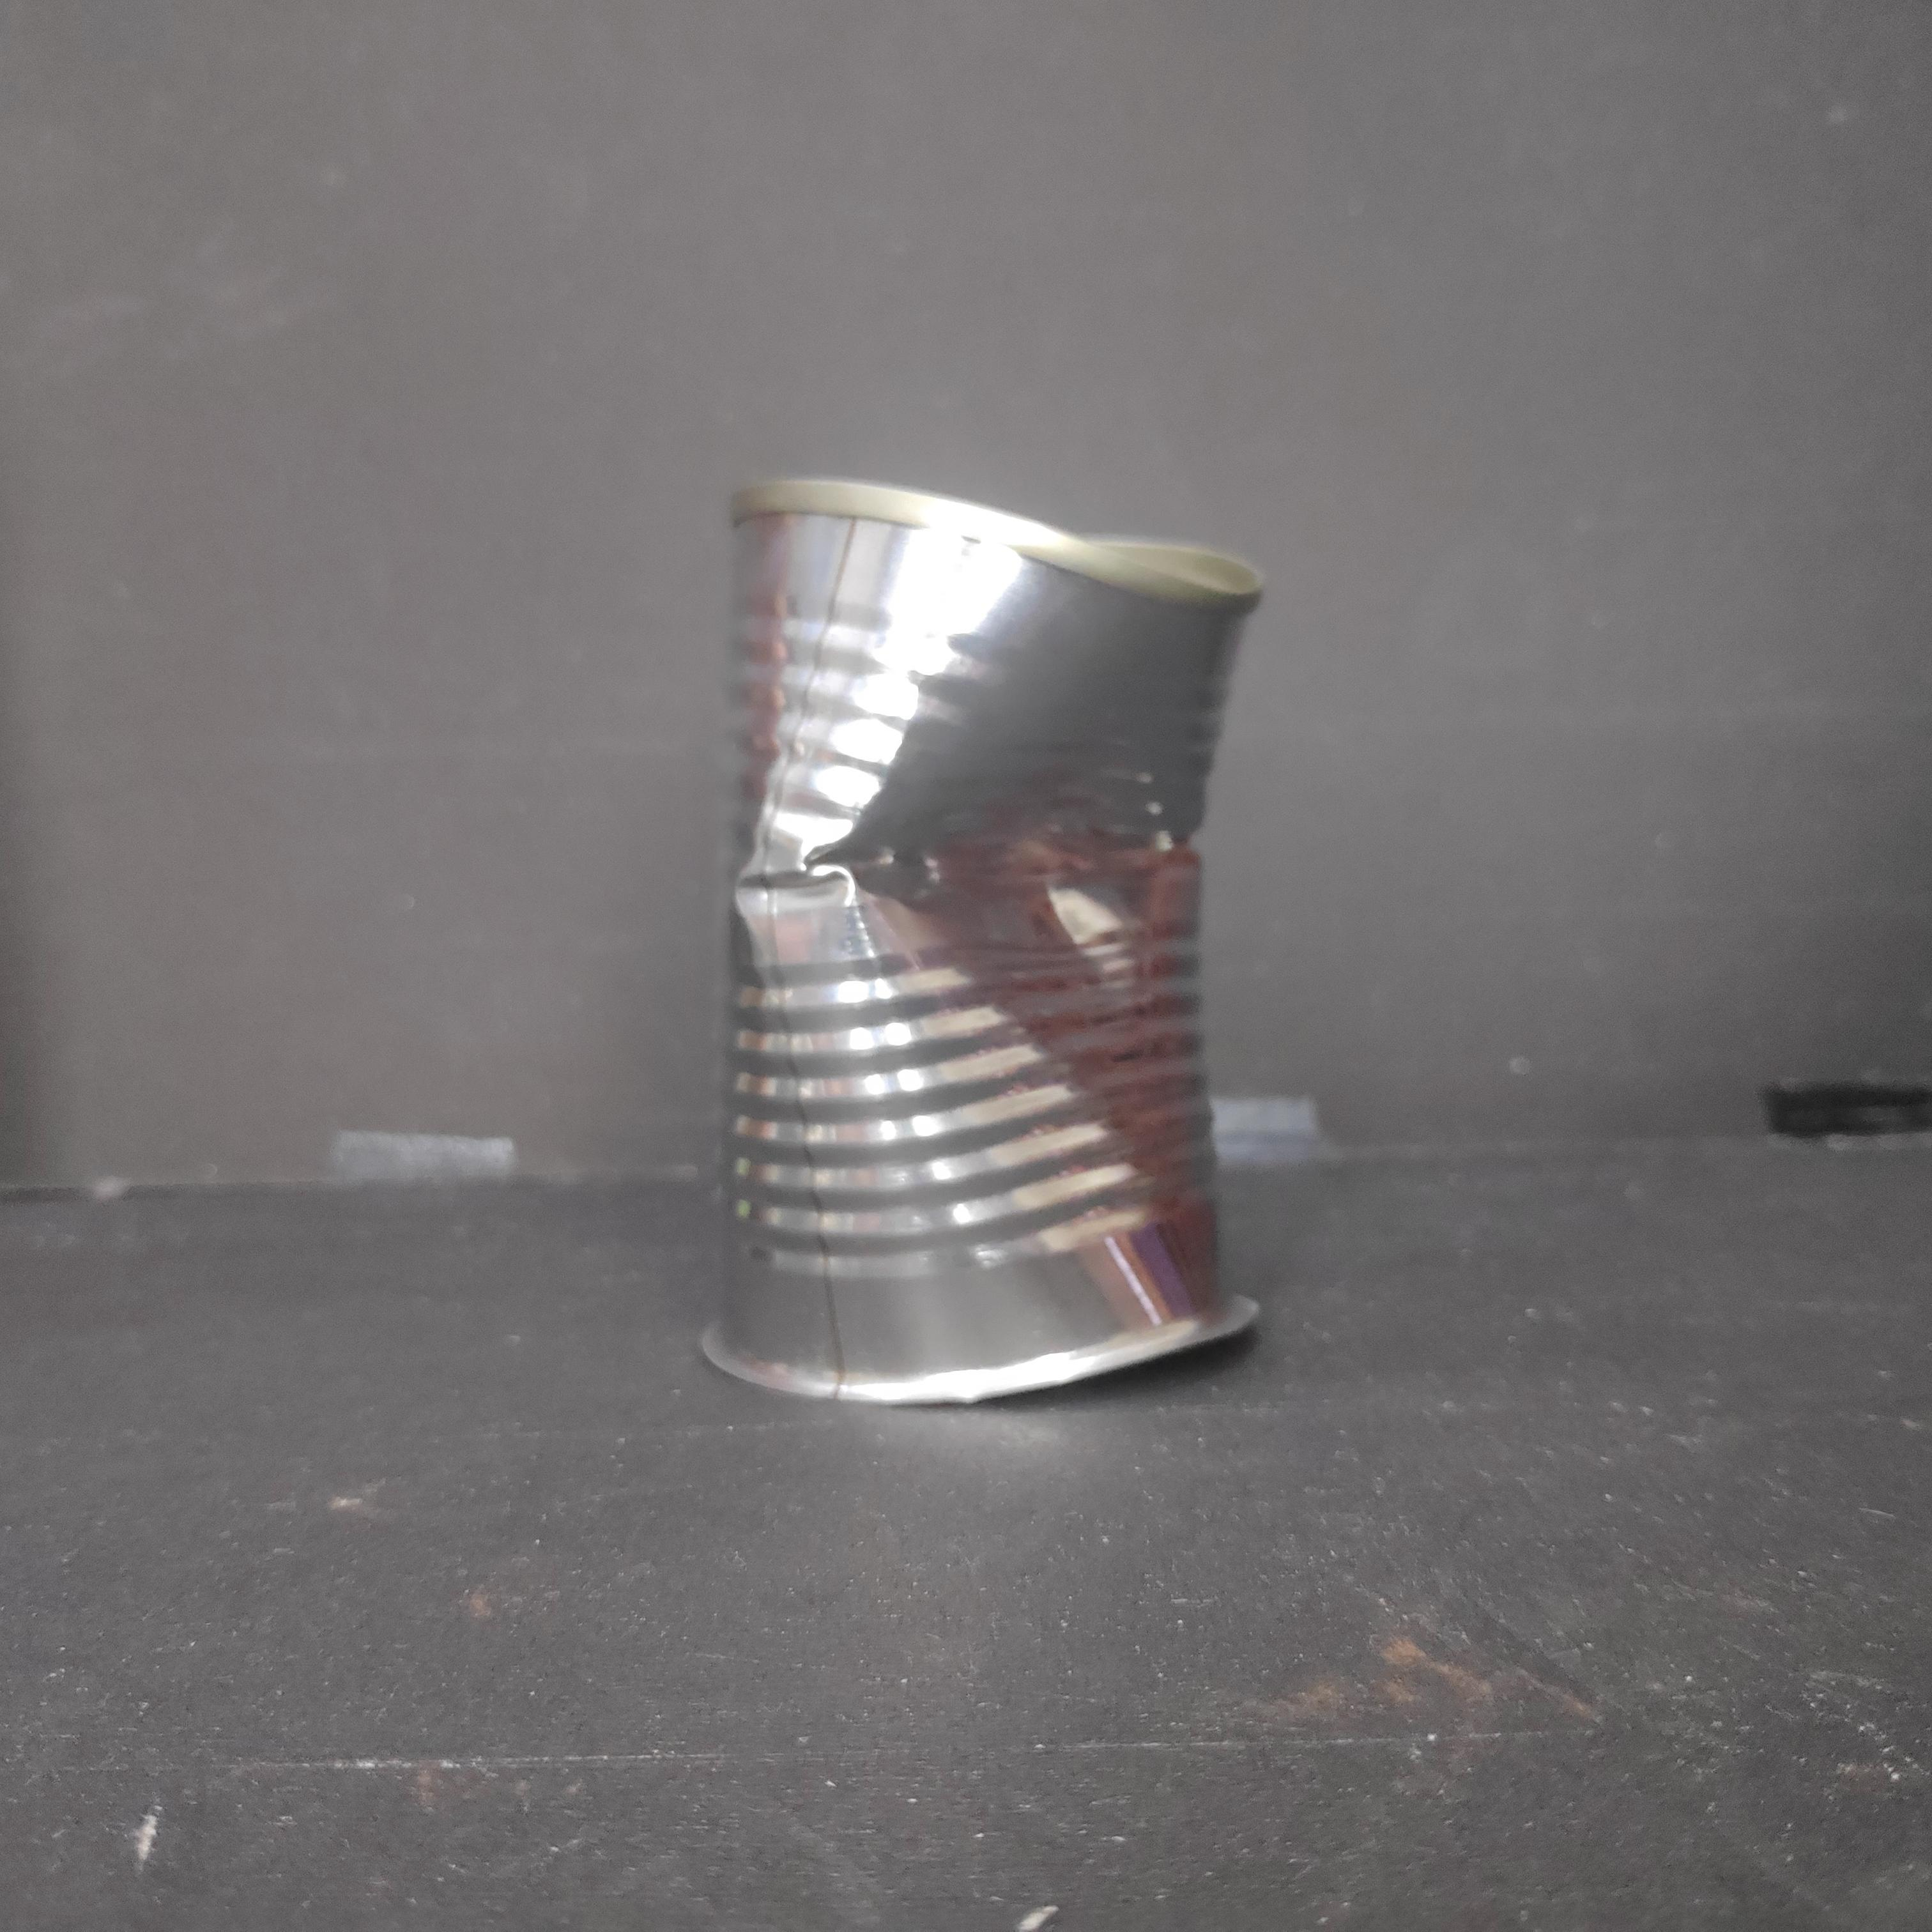Major Defect: (694, 467, 1274, 1421)
